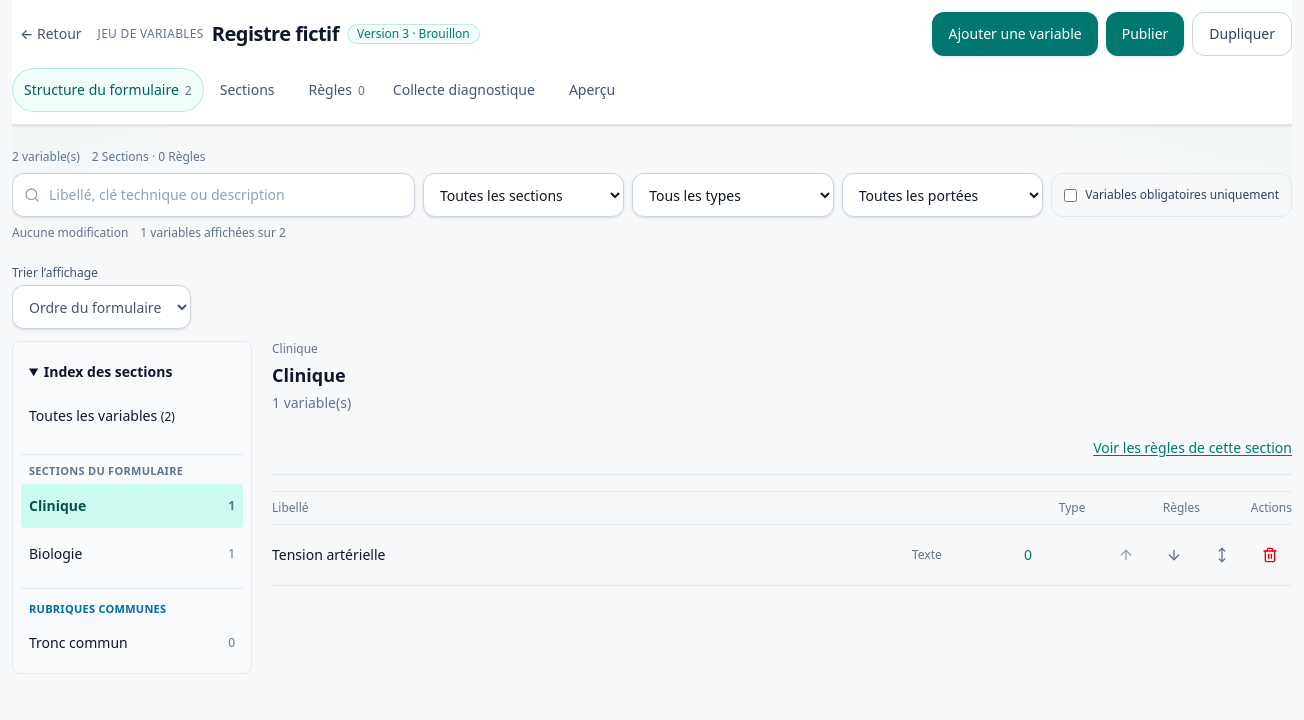
Scenario: TemplateVersionEditor › regroupe les variables et filtre par libelle ou cle technique
Expected: the heading "Registre fictif" is shown, [212, 20, 339, 48]
Expected: the text "Version 3 · Brouillon" is shown, [347, 24, 480, 44]
Type "hemoglobine" into the search field named "Rechercher une variable" at x=213, y=195, box [12, 173, 415, 217]
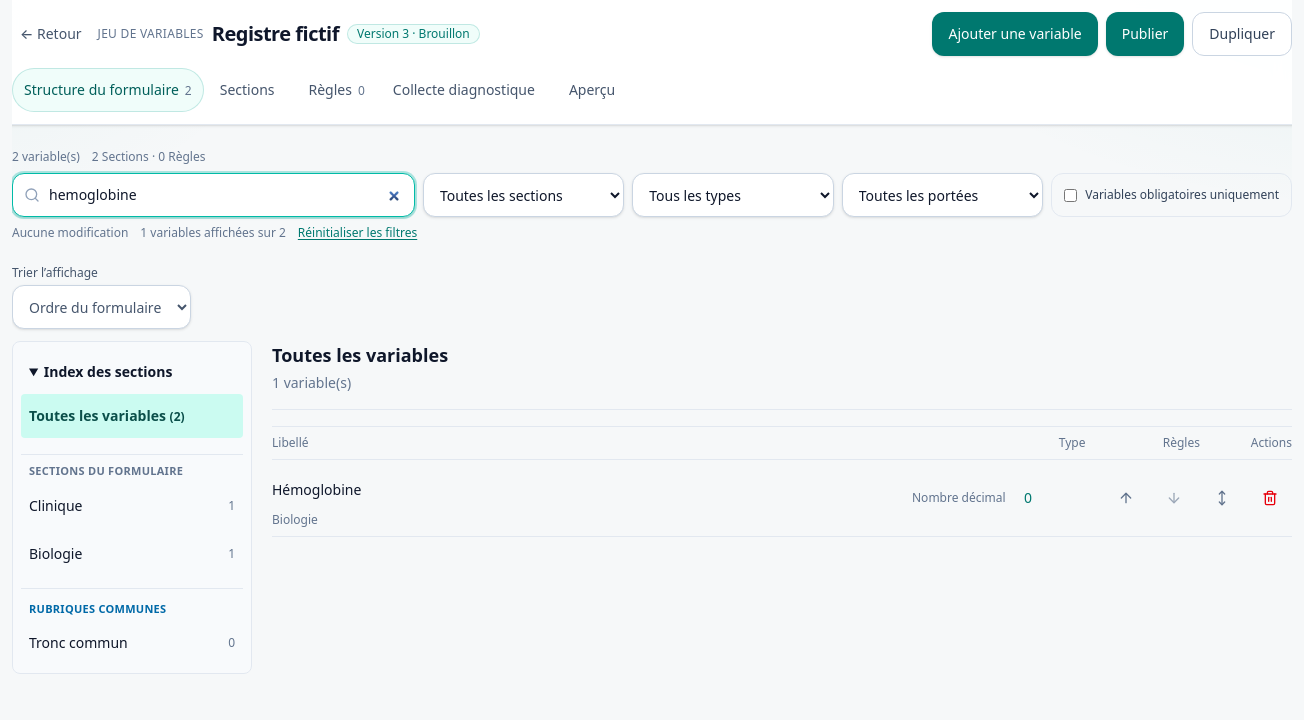
Expected: the button "Hémoglobine" is shown, [272, 468, 904, 512]
Expected: the button "Tension artérielle" is gone
Expected: the text "Biologie" below "Nombre décimal" is shown, [272, 511, 318, 528]
Click the button "Réinitialiser les filtres" at x=358, y=233, box [298, 225, 417, 241]
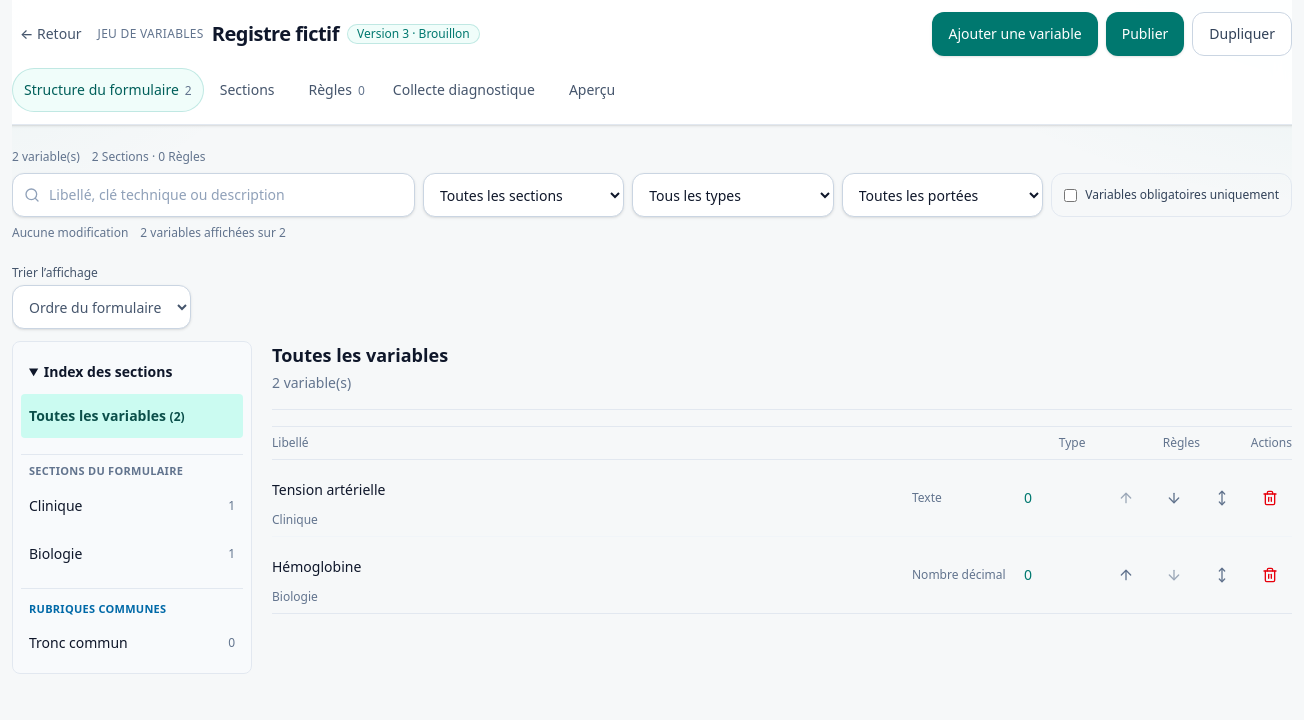
Expected: the text "2 variables affichées sur 2" is shown, [140, 225, 286, 241]
Expected: the button "Tension artérielle" is shown, [272, 468, 904, 512]
